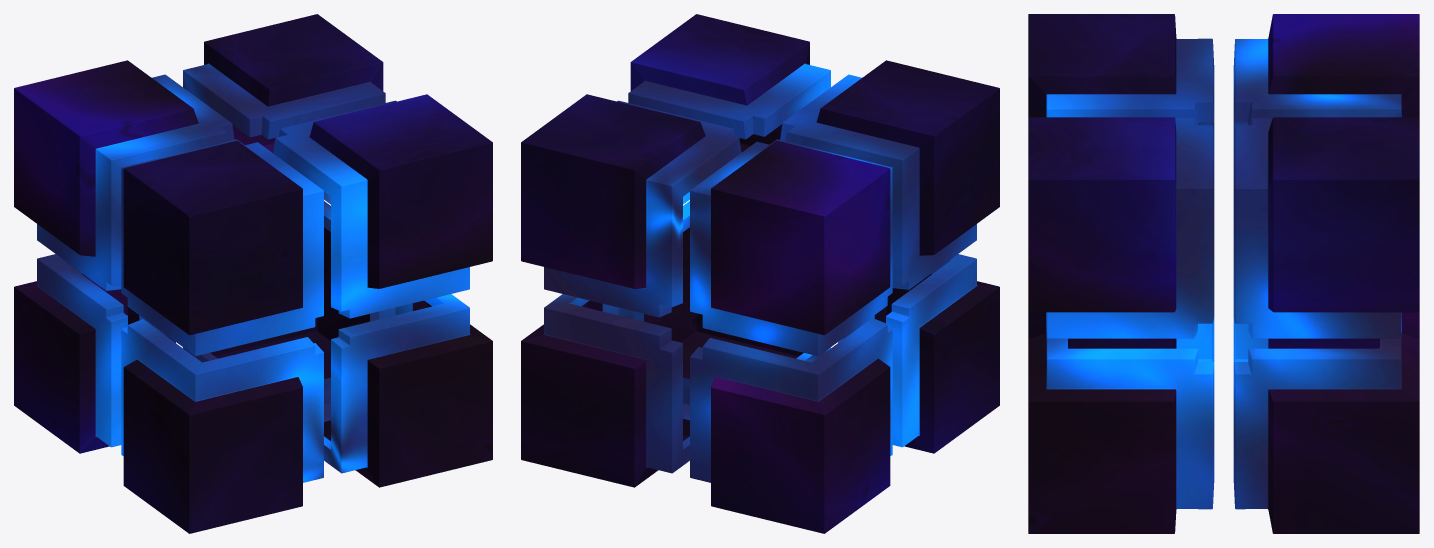
Rendered from outerCube.fbx.
3 views of the same model, side by side, from view 1: azimuth 30°, elevation 25°; view 2: azimuth 150°, elevation 25°; view 3: azimuth 270°, elevation 25° (orthographic). The views are drawn at different scales.
Parts seen in each view (by area): view 1: outer_cube; view 2: outer_cube; view 3: outer_cube.
Boxes of the visible parts, bbox=[...] form: outer_cube: bbox=[14, 14, 492, 533]; outer_cube: bbox=[521, 14, 999, 533]; outer_cube: bbox=[1028, 14, 1419, 533].
Bounding box in the file's own units: 293 × 293 × 293.
